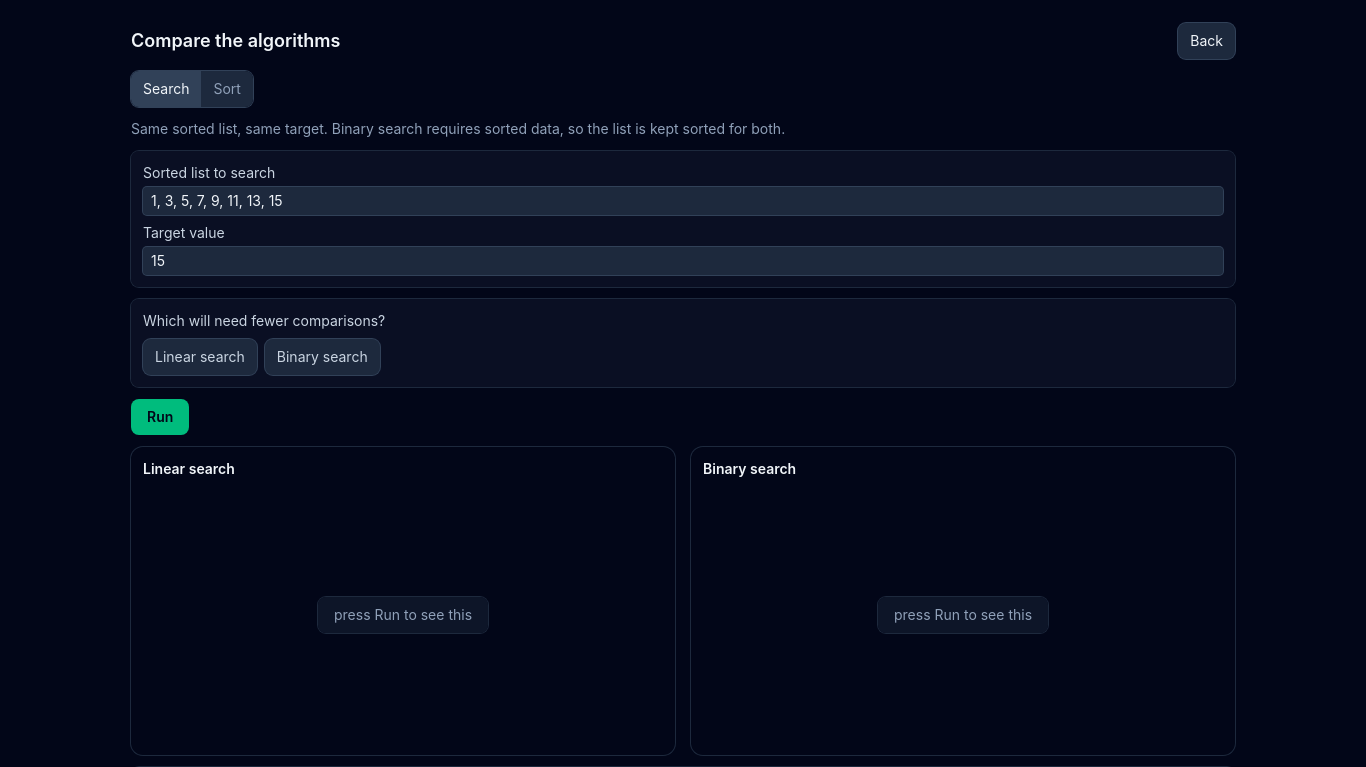
Compare — Run wires two sequential real runs into two Pictures (AC-9.7) › renders both pictures and a counts table with steps/comparisons/swaps/moves
Click the button "Run": x=160, y=417 x1=131 y1=399 x2=189 y2=435
(page scrolled)
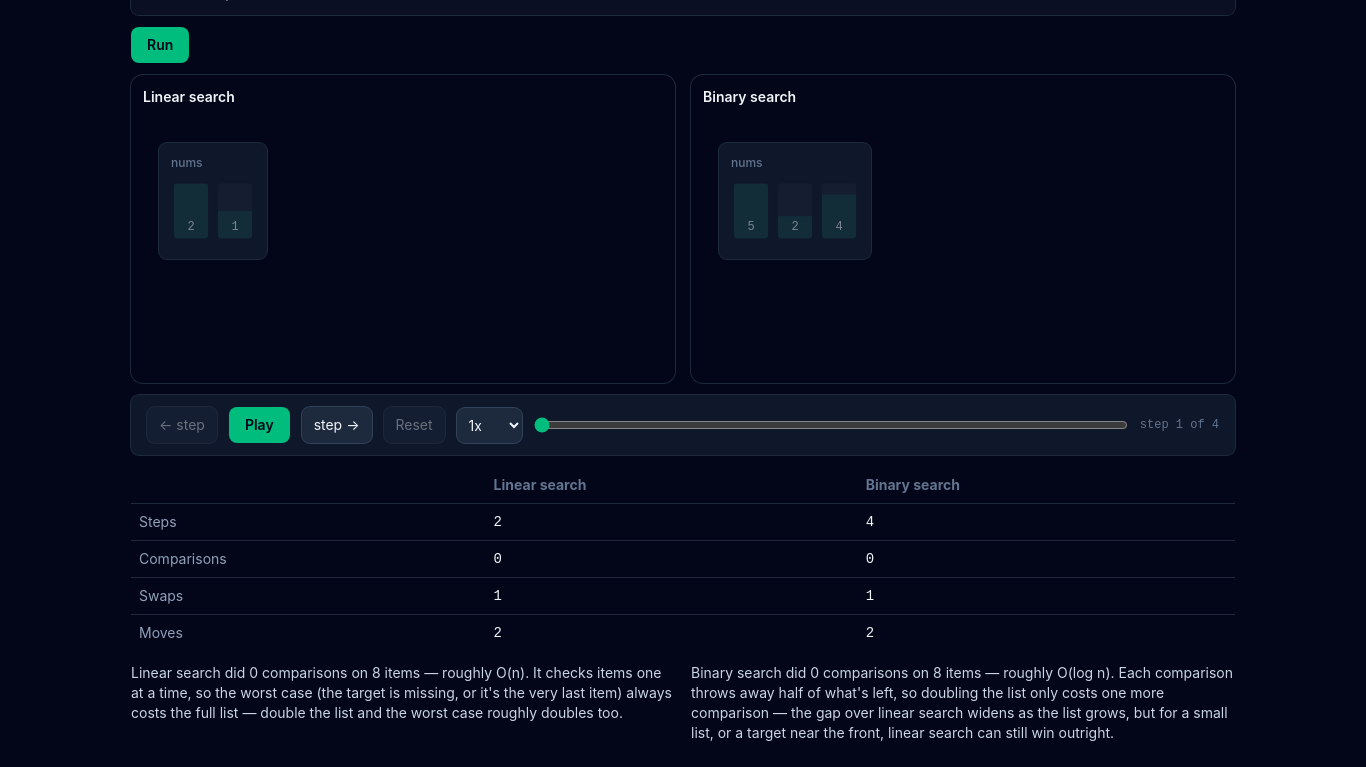
expect the table with test id "compare-counts" is shown: met, box x1=131 y1=467 x2=1235 y2=651
expect the text "press Run to see this" is not shown: met
expect the text "Steps" is shown: met, box x1=131 y1=504 x2=486 y2=540
